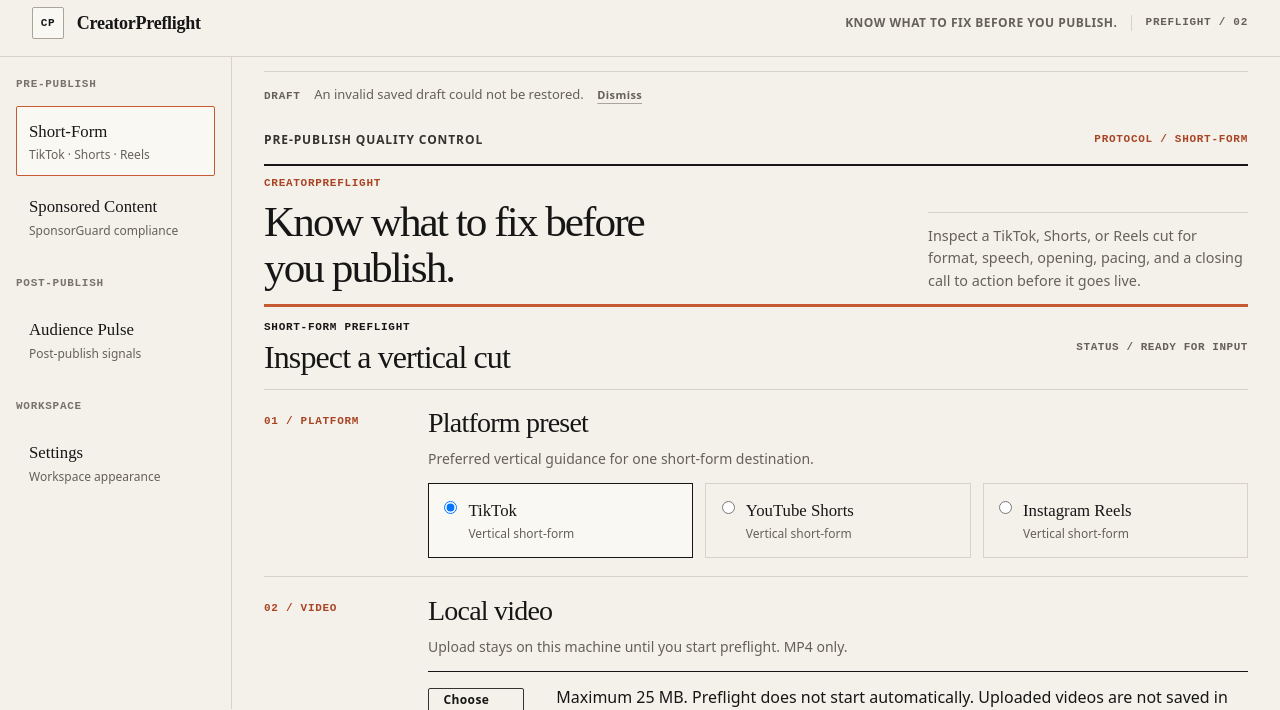
CreatorPreflight shell › still starts after corrupted storage and keeps the workflow usable
Check: the heading "Know what to fix before you publish." is shown, box [264,198,653,292]
Check: the text "An invalid saved draft could not be restored." is shown, box [314,84,584,102]
Click the button "Sponsored Content SponsorGuard compliance" at coordinates (116, 217), box [16,182,215,252]
(page scrolled)
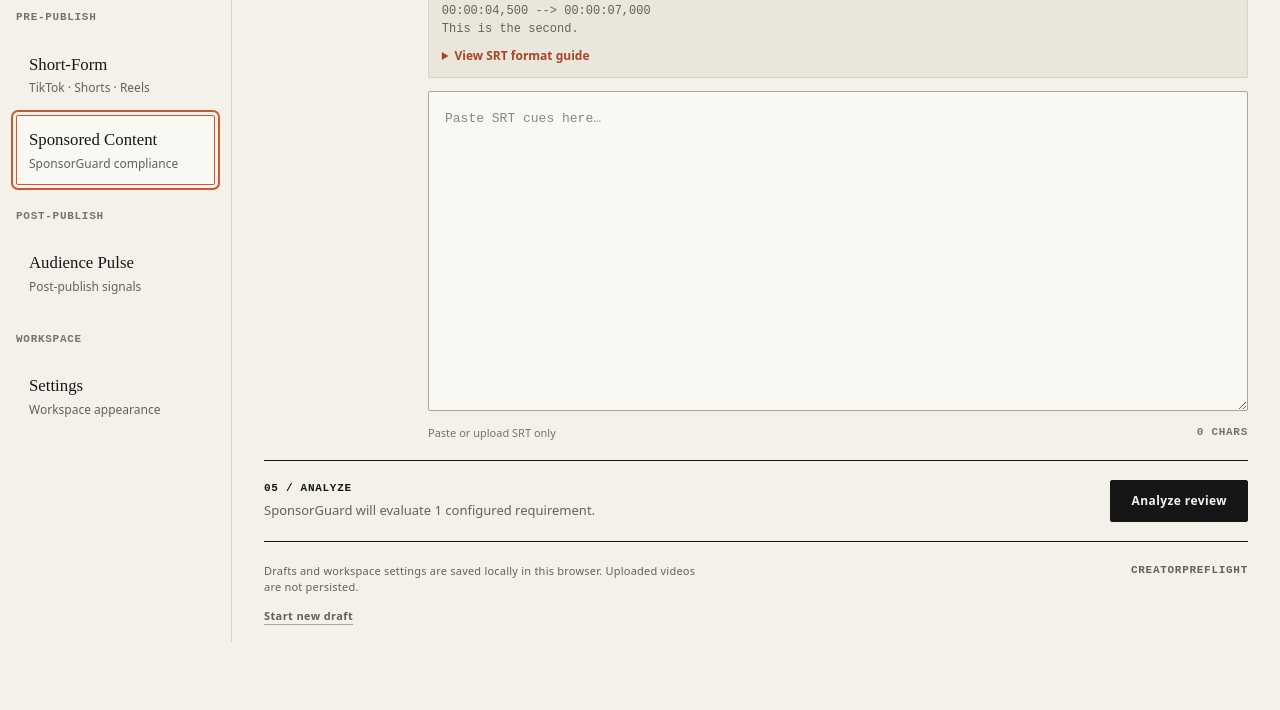
Check: the button "Analyze review" is enabled, box [1110,480,1248,522]
